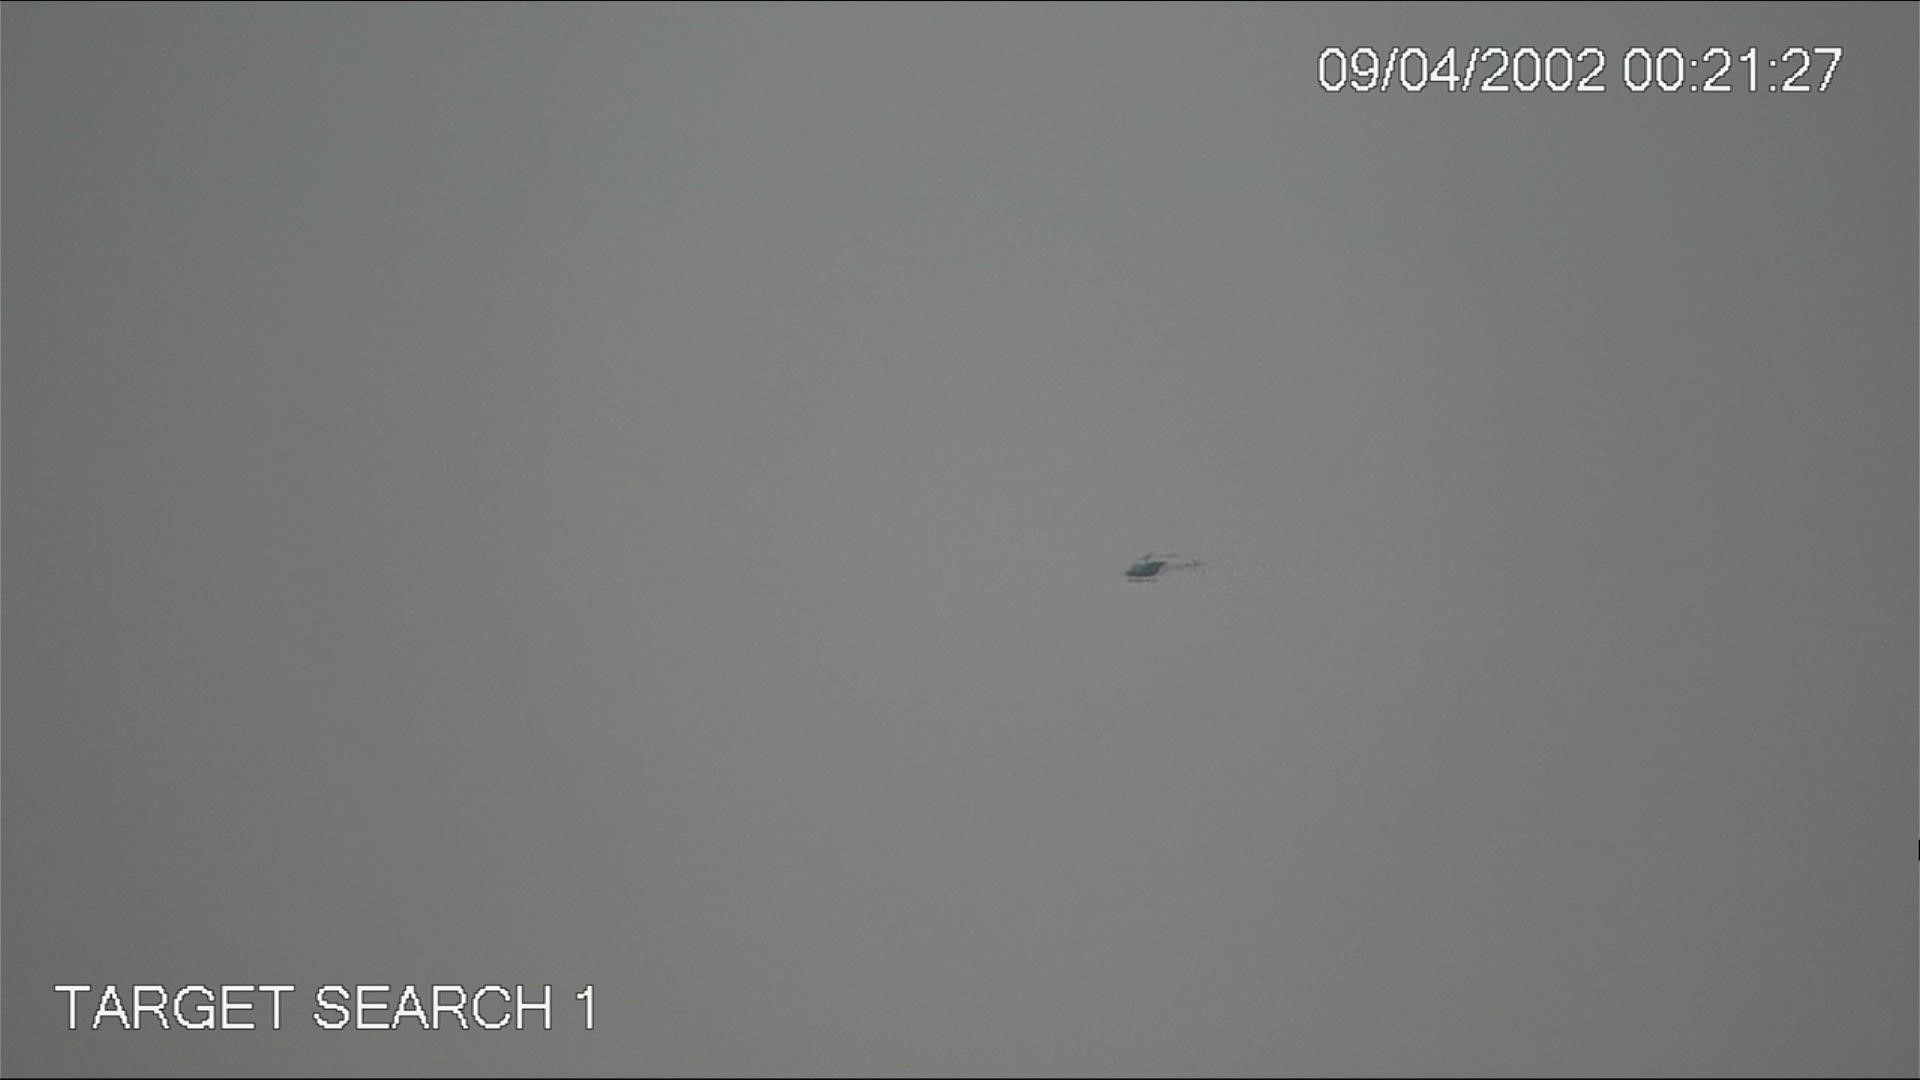SU_30: (1124, 550, 1164, 588)
